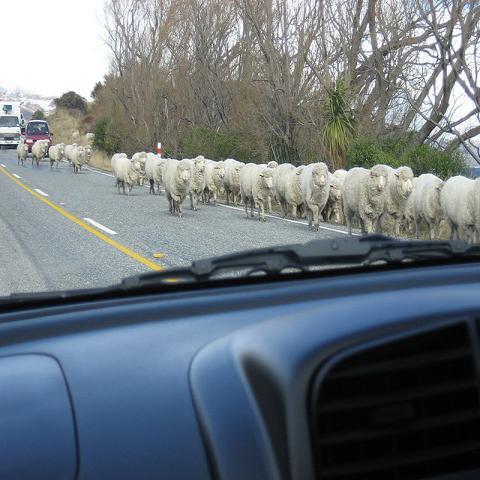car: (24, 120, 52, 153), (20, 113, 26, 137)
truck: (0, 100, 24, 150)
